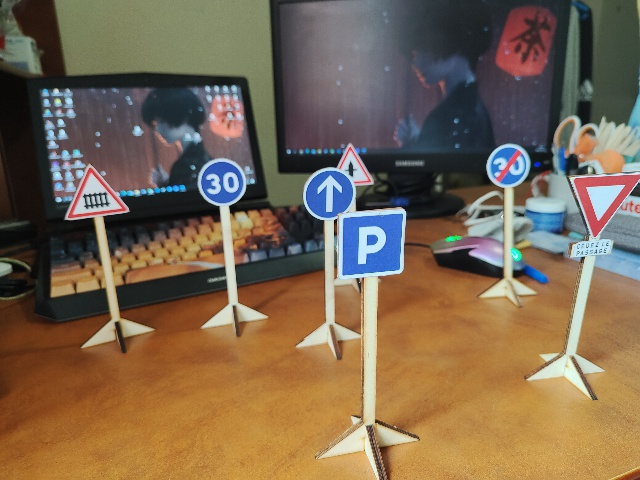P: (339, 211, 405, 275)
first: (486, 145, 528, 185), (337, 145, 374, 187)
second: (570, 167, 636, 261)
straight: (304, 170, 355, 221)
thirty: (198, 158, 245, 208)
train: (62, 164, 130, 222)
